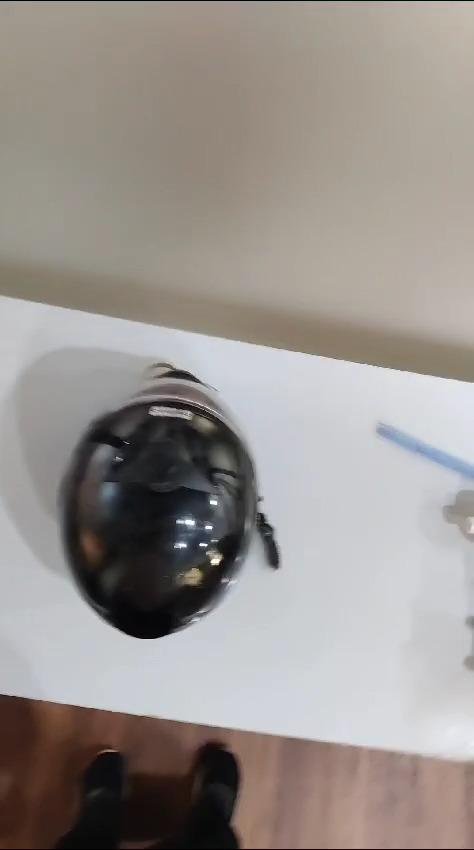Helmet: (58, 364, 261, 643)
